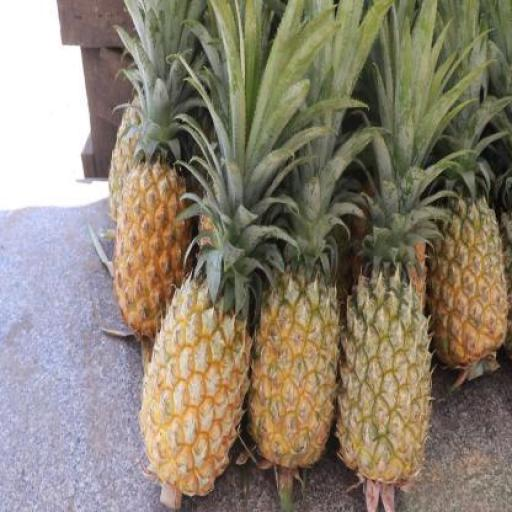------------------------------: (339, 276, 429, 481)
Pineapple - v8 v1: (140, 294, 246, 506), (249, 274, 342, 469), (114, 164, 190, 350), (429, 204, 504, 370)
